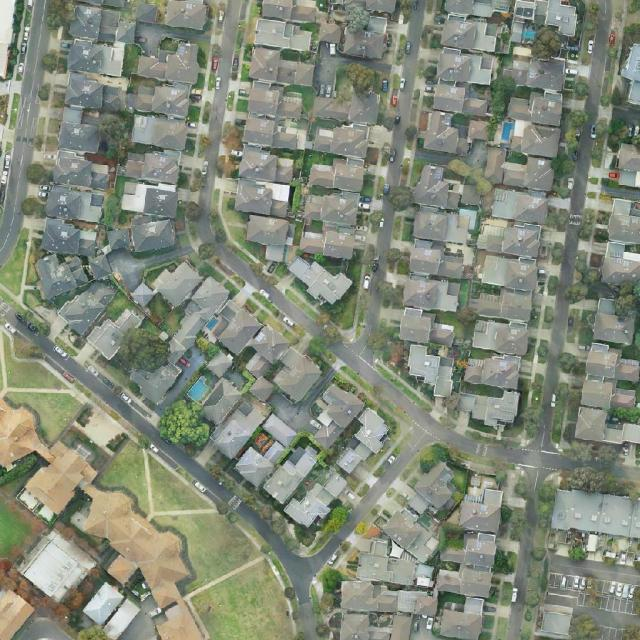building: (63, 459, 236, 640), (398, 164, 475, 348), (423, 14, 505, 159), (380, 459, 504, 549), (298, 118, 372, 261), (294, 376, 396, 479), (339, 540, 438, 639), (467, 251, 541, 359), (202, 295, 293, 382), (153, 274, 233, 366), (575, 341, 640, 447), (16, 525, 97, 607), (499, 58, 565, 157), (20, 438, 100, 518), (63, 4, 139, 80), (121, 153, 178, 253), (232, 412, 300, 490), (25, 443, 97, 516), (242, 81, 313, 153), (39, 184, 106, 259), (281, 469, 356, 534), (282, 246, 353, 311), (550, 488, 640, 539), (54, 269, 120, 338), (235, 144, 294, 217), (262, 441, 324, 505), (0, 397, 54, 469), (264, 344, 325, 404), (482, 146, 558, 194), (85, 299, 143, 361), (208, 399, 265, 461), (125, 348, 182, 406), (318, 14, 388, 60), (150, 254, 206, 310), (476, 216, 542, 260), (137, 39, 200, 85), (26, 250, 79, 304), (63, 71, 126, 116), (407, 345, 455, 397), (52, 149, 112, 190), (490, 187, 551, 227), (463, 349, 522, 390), (197, 377, 244, 426), (243, 215, 291, 262), (312, 92, 380, 125), (126, 84, 190, 119), (592, 298, 638, 345), (130, 115, 189, 151), (459, 390, 518, 426), (57, 107, 103, 153), (262, 459, 307, 505), (464, 354, 520, 390), (82, 582, 124, 626), (0, 590, 34, 639), (609, 199, 640, 244), (444, 233, 481, 269), (540, 603, 573, 636), (63, 252, 92, 288), (446, 183, 482, 209), (206, 349, 236, 379), (248, 375, 278, 404), (86, 253, 114, 282), (128, 281, 156, 309), (290, 0, 318, 23), (446, 180, 464, 209), (107, 229, 131, 250), (457, 209, 478, 230), (137, 4, 160, 22), (66, 258, 83, 275), (424, 535, 441, 552), (416, 563, 433, 578), (448, 179, 456, 192)
greenland: (0, 557, 73, 633), (114, 322, 175, 379), (157, 398, 212, 446), (59, 564, 109, 616), (566, 461, 607, 500), (301, 333, 339, 372), (413, 439, 452, 475), (279, 517, 320, 547), (320, 502, 352, 537), (323, 326, 344, 344)
metalled_road: (536, 124, 597, 436), (336, 322, 457, 479), (209, 245, 322, 344), (195, 0, 242, 216), (58, 348, 160, 441), (144, 432, 236, 509), (507, 496, 545, 640), (486, 442, 571, 480), (237, 502, 291, 555), (372, 199, 397, 281), (385, 128, 409, 185), (445, 431, 478, 457), (365, 289, 382, 334), (35, 334, 61, 361), (197, 218, 213, 242)
